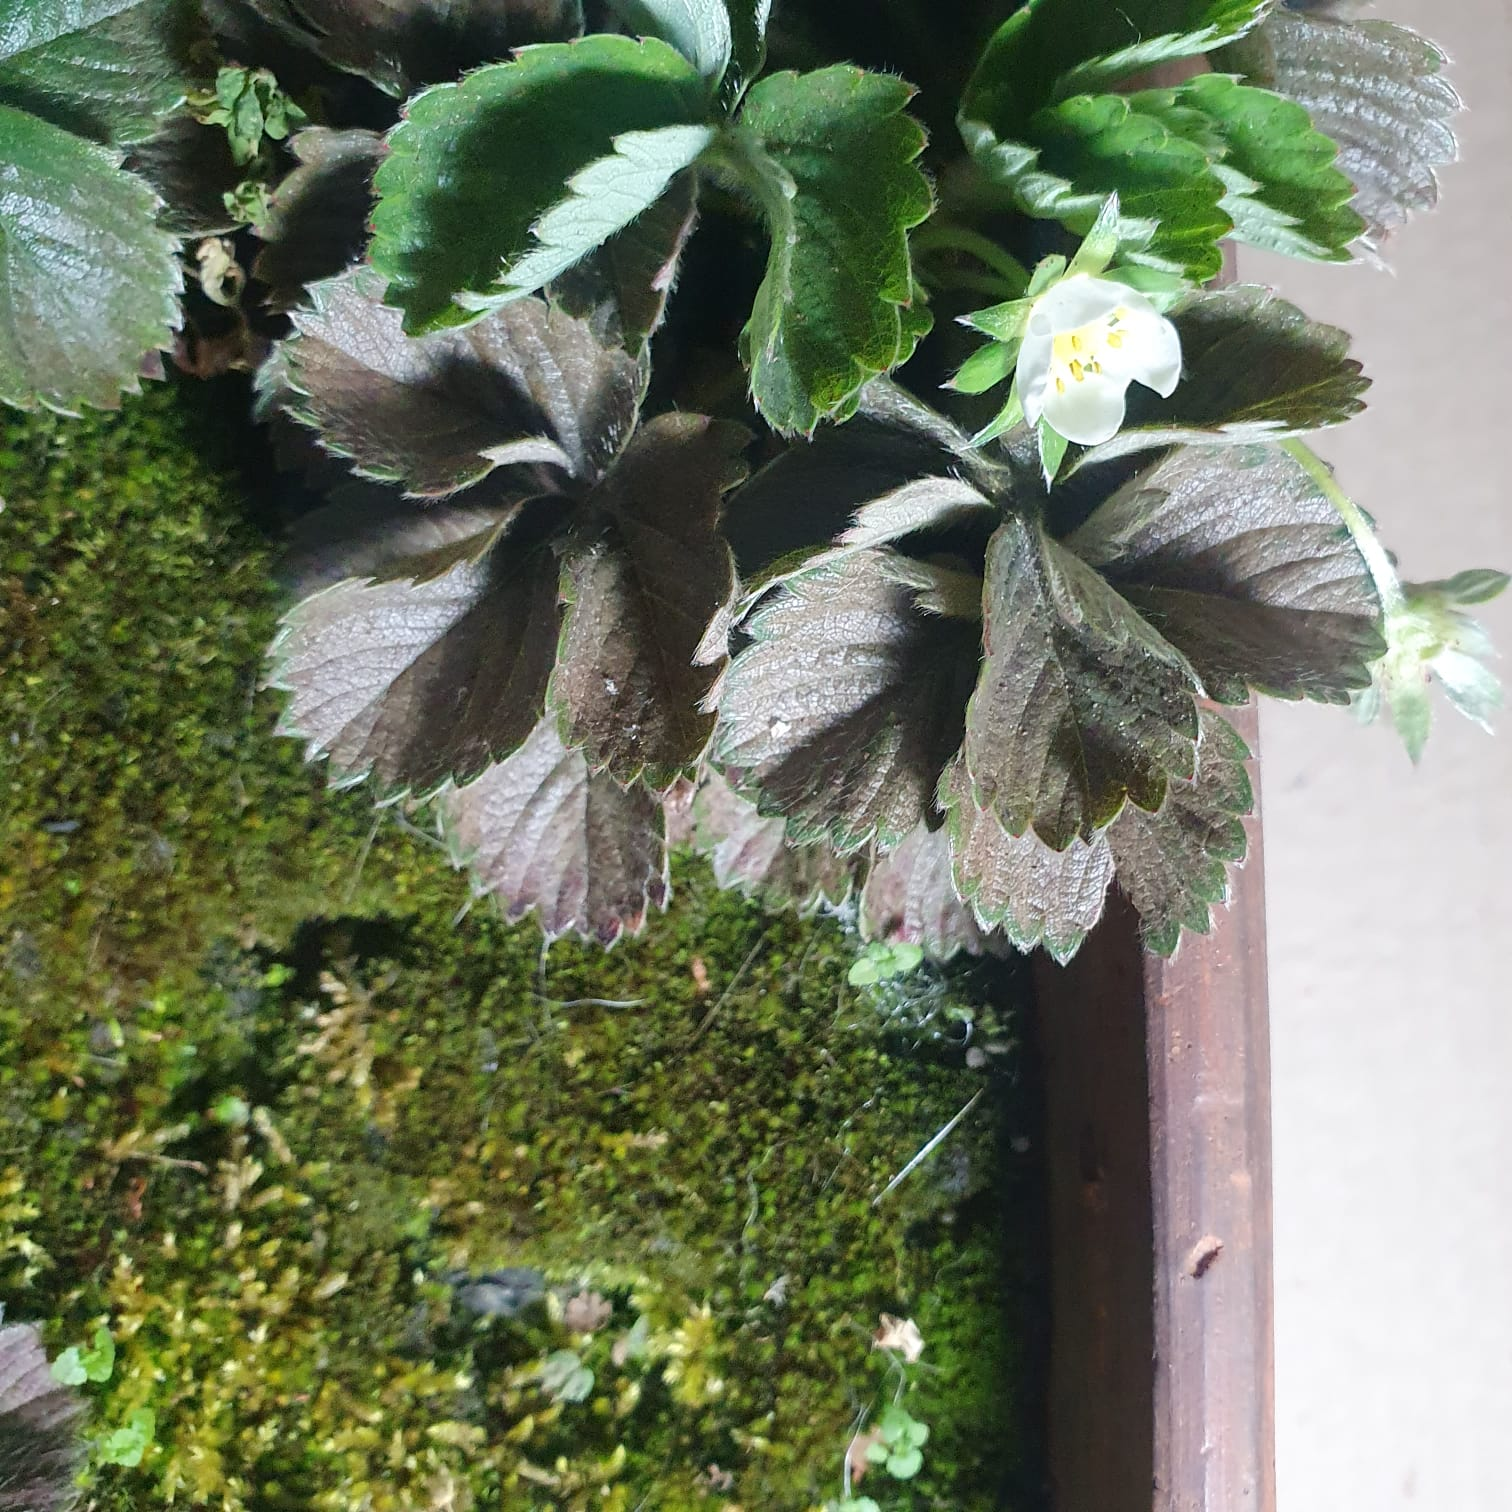tizon_tardio: (327, 296, 708, 926)
